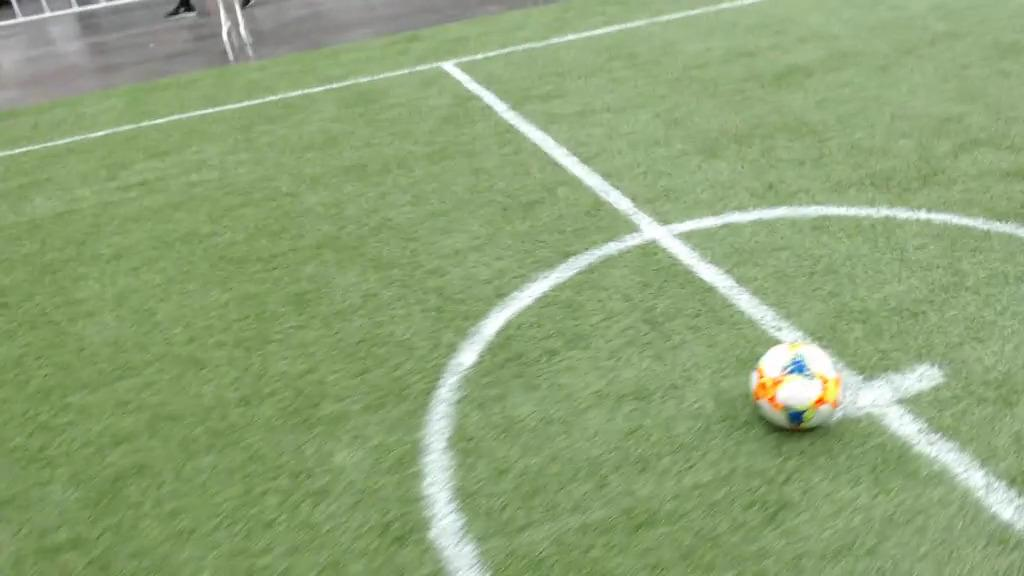ball: (751, 342, 843, 433)
